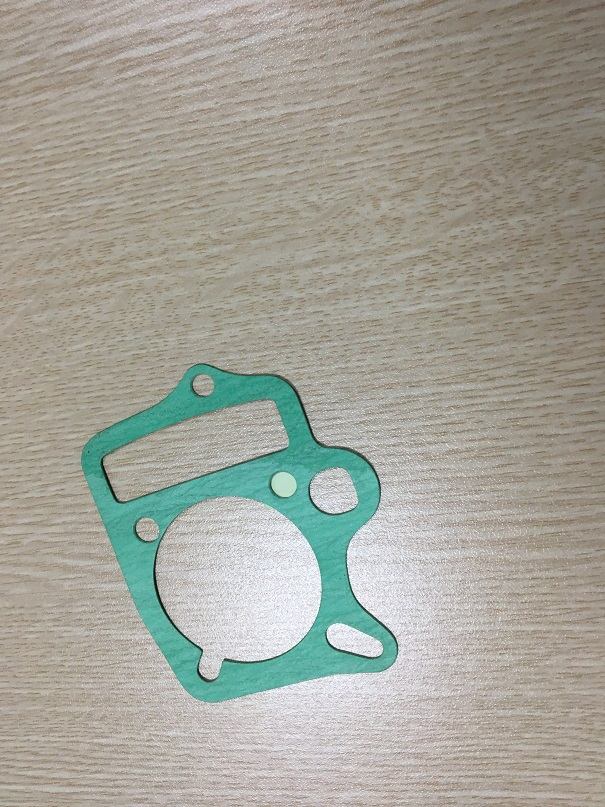type4: (74, 356, 410, 713)
